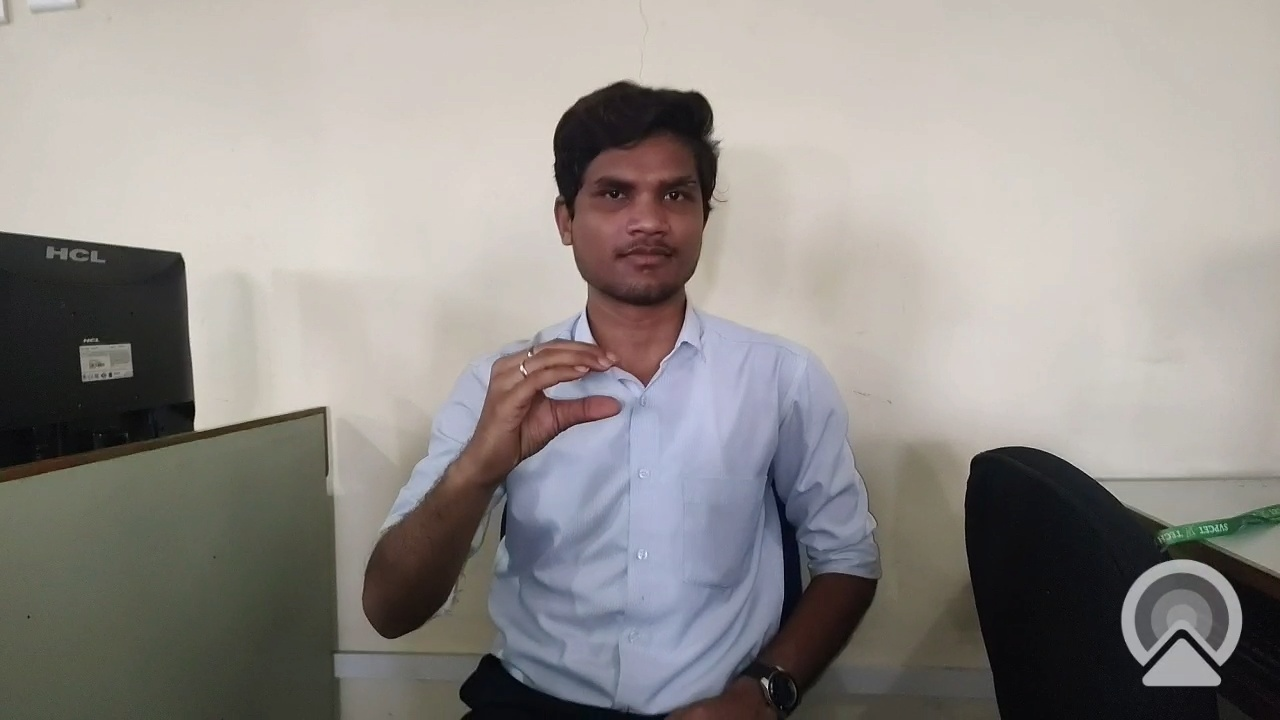No: (462, 329, 665, 469)
